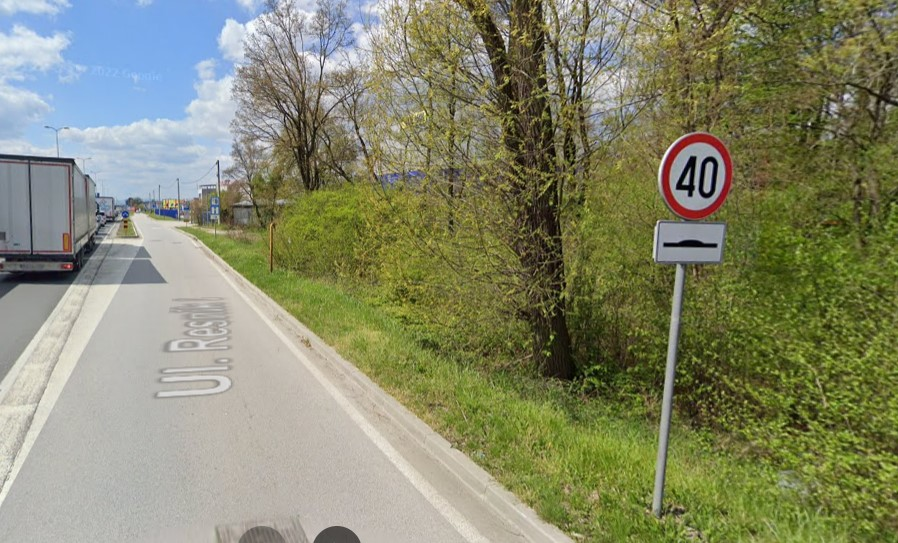Ograničenje brzine 40: (658, 131, 733, 220)
